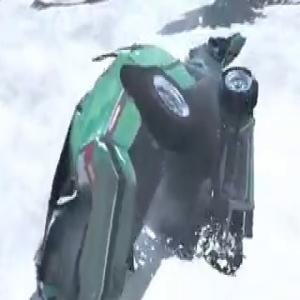severe: (26, 10, 261, 300)
